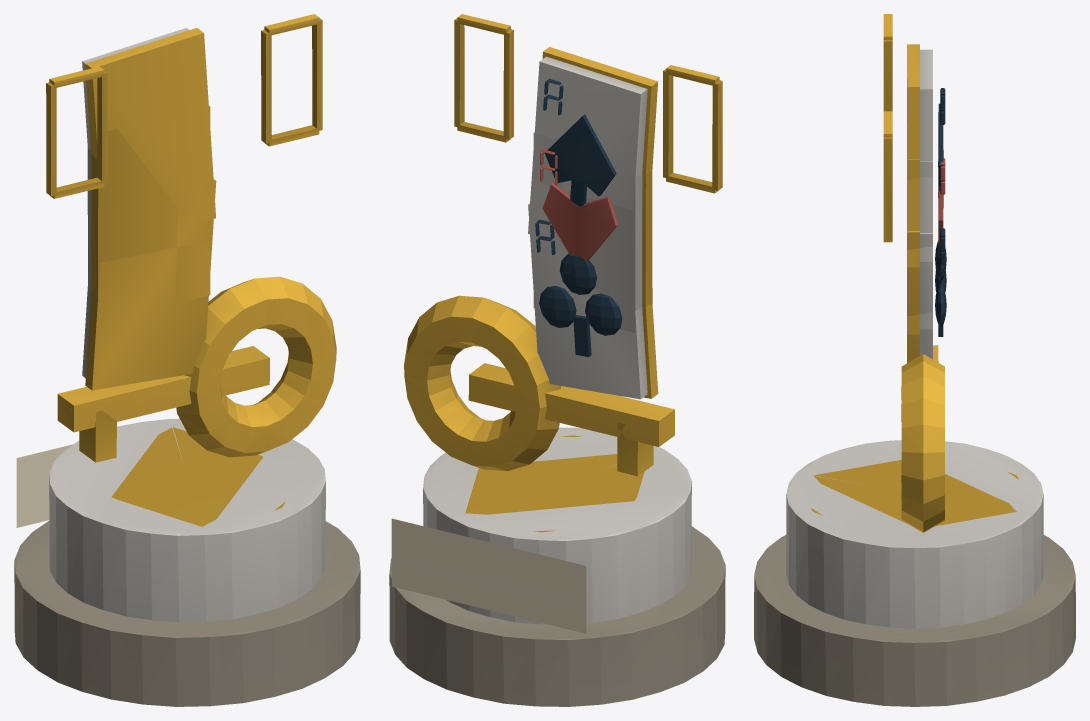
The model's file is trophy_freecell_low.glb.
3 renders of one model, left to right at view 1: azimuth 30°, elevation 25°; view 2: azimuth 150°, elevation 25°; view 3: azimuth 270°, elevation 25°, orthographic. The views are drawn at different scales.
Parts seen in each view (by area): view 1: common_pedestal, symbol, trophy_plate; view 2: symbol, common_pedestal, trophy_plate; view 3: common_pedestal, symbol.
Part boxes in pixels (box(x1,y1,x2,y2)): common_pedestal: box(14, 419, 360, 706); symbol: box(46, 14, 336, 462); trophy_plate: box(16, 418, 179, 527); symbol: box(404, 14, 722, 476); common_pedestal: box(389, 427, 725, 706); trophy_plate: box(391, 518, 586, 633); common_pedestal: box(754, 440, 1075, 706); symbol: box(883, 14, 946, 532).
Bounding box in the file's own units: 0.9184 × 1.72 × 0.8987.
